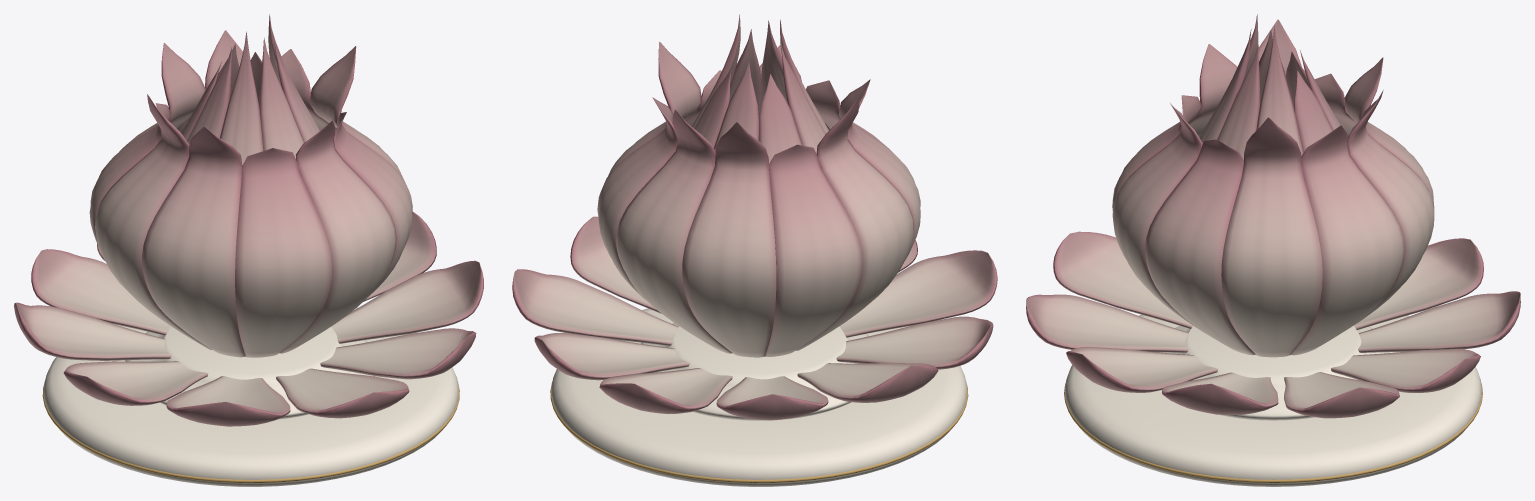
The model's file is lotus-lantern-lite.glb.
3 views of the same model, side by side, from view 1: azimuth 30°, elevation 25°; view 2: azimuth 150°, elevation 25°; view 3: azimuth 270°, elevation 25° (orthographic).
Parts seen in each view (by area): view 1: Porcelain_Pedestal, Petal_Middle_10, Petal_Middle_09, Petal_Middle_01, Petal_Middle_08, Petal_Outer_03, Petal_Outer_07, Petal_Outer_08, Pedestal_Raised_Foot, Petal_Outer_02, Petal_Outer_09, Petal_Outer_01 (+14 smaller); view 2: Porcelain_Pedestal, Petal_Middle_06, Petal_Middle_07, Petal_Middle_05, Petal_Middle_08, Petal_Outer_10, Petal_Outer_04, Pedestal_Raised_Foot, Petal_Outer_09, Petal_Outer_05, Petal_Middle_04, Petal_Outer_06 (+15 smaller); view 3: Porcelain_Pedestal, Petal_Middle_03, Petal_Middle_04, Petal_Middle_02, Petal_Outer_01, Petal_Outer_06, Petal_Middle_01, Pedestal_Raised_Foot, Petal_Outer_10, Petal_Middle_05, Petal_Outer_07, Petal_Outer_02 (+14 smaller).
Part boxes in pixels (left/top/right/bottom): Porcelain_Pedestal: left=44, top=307, right=458, bottom=486; Petal_Middle_10: left=235, top=148, right=332, bottom=357; Petal_Middle_09: left=142, top=127, right=245, bottom=357; Petal_Middle_01: left=279, top=120, right=396, bottom=353; Petal_Middle_08: left=95, top=94, right=211, bottom=350; Petal_Outer_03: left=331, top=260, right=483, bottom=343; Petal_Outer_07: left=31, top=249, right=171, bottom=335; Petal_Outer_08: left=14, top=302, right=171, bottom=360; Pedestal_Raised_Foot: left=125, top=326, right=374, bottom=419; Petal_Outer_02: left=320, top=328, right=476, bottom=379; Petal_Outer_09: left=63, top=361, right=208, bottom=405; Petal_Outer_01: left=276, top=368, right=409, bottom=418; Porcelain_Pedestal: left=551, top=308, right=966, bottom=486; Petal_Middle_06: left=682, top=122, right=776, bottom=357; Petal_Middle_07: left=765, top=144, right=862, bottom=356; Petal_Middle_05: left=616, top=109, right=732, bottom=353; Petal_Middle_08: left=796, top=97, right=913, bottom=350; Petal_Outer_10: left=839, top=250, right=997, bottom=337; Petal_Outer_04: left=512, top=269, right=678, bottom=345; Pedestal_Raised_Foot: left=641, top=323, right=868, bottom=420; Petal_Outer_09: left=836, top=316, right=993, bottom=369; Petal_Outer_05: left=534, top=333, right=689, bottom=380; Petal_Middle_04: left=597, top=97, right=677, bottom=299; Petal_Outer_06: left=599, top=368, right=732, bottom=414; Porcelain_Pedestal: left=1065, top=314, right=1481, bottom=486; Petal_Middle_03: left=1221, top=117, right=1322, bottom=357; Petal_Middle_04: left=1290, top=125, right=1405, bottom=355; Petal_Middle_02: left=1145, top=139, right=1255, bottom=355; Petal_Outer_01: left=1026, top=294, right=1188, bottom=352; Petal_Outer_06: left=1358, top=291, right=1520, bottom=352; Petal_Middle_01: left=1112, top=103, right=1219, bottom=341; Pedestal_Raised_Foot: left=1160, top=326, right=1397, bottom=420; Petal_Outer_10: left=1053, top=231, right=1192, bottom=328; Petal_Middle_05: left=1344, top=90, right=1434, bottom=331; Petal_Outer_07: left=1353, top=238, right=1483, bottom=329; Petal_Outer_02: left=1066, top=347, right=1218, bottom=392.
Bounding box in the file's own units: 3.01 × 2.72 × 3.15.
